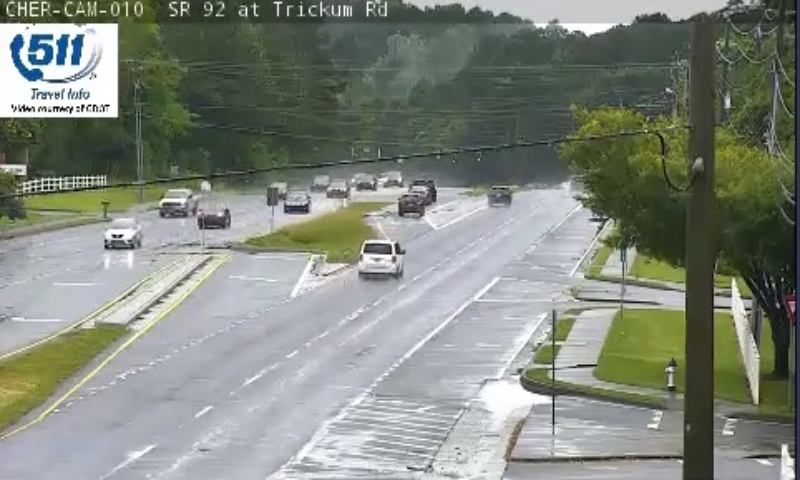car: (358, 240, 403, 274), (398, 193, 423, 216)
